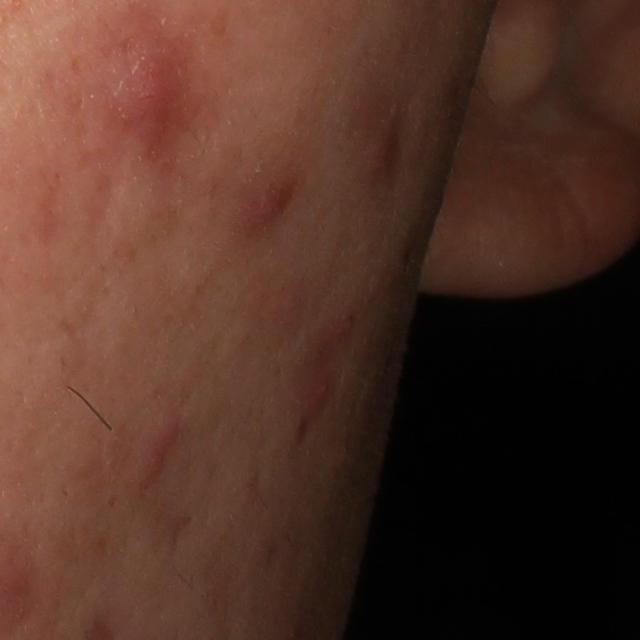papule: (101, 52, 187, 134), (228, 158, 300, 236), (127, 416, 183, 493), (366, 119, 399, 176), (305, 373, 333, 406)
